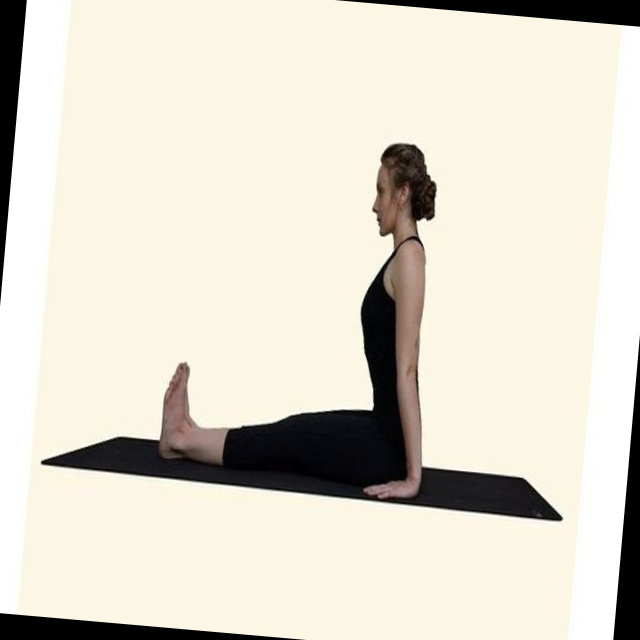Staff_Pose: (157, 142, 433, 497)
